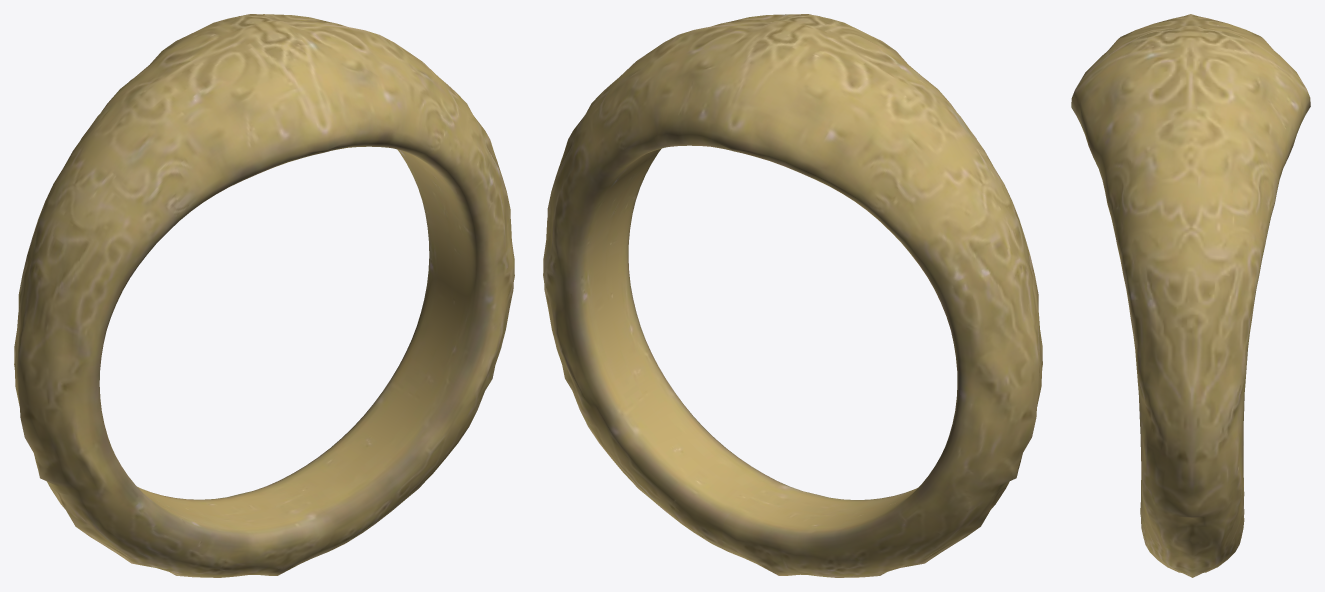
File: ring.glb
The picture shows the model from 3 angles, left to right: view 1: azimuth 30°, elevation 25°; view 2: azimuth 150°, elevation 25°; view 3: azimuth 270°, elevation 25°; orthographic projection. The views are drawn at different scales.
Parts seen in each view (by area): view 1: R_Low_PM3D_Rng_Low.001_0; view 2: R_Low_PM3D_Rng_Low.001_0; view 3: R_Low_PM3D_Rng_Low.001_0.
Part boxes in pixels (box(x1,y1,x2,y2)): R_Low_PM3D_Rng_Low.001_0: box(14, 14, 514, 577); R_Low_PM3D_Rng_Low.001_0: box(543, 14, 1042, 577); R_Low_PM3D_Rng_Low.001_0: box(1071, 14, 1310, 577).
Size of the model in its own units: 0.2484 by 0.2648 by 0.1101.
Materials: 1 (1 with a texture image).
